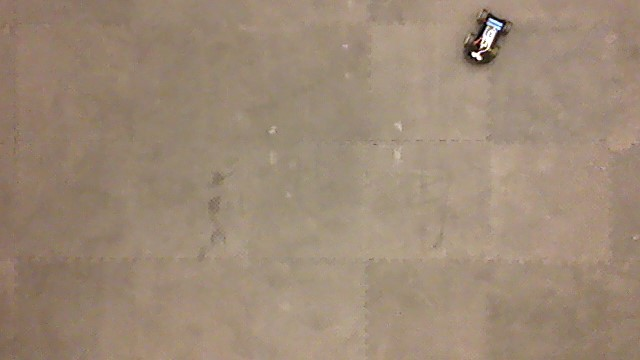Agent: (463, 7, 515, 67)
